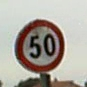limite 50: (13, 17, 66, 72)
